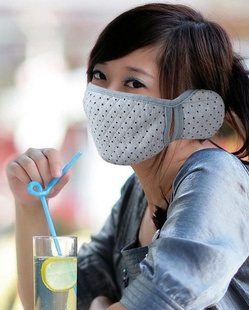face_mask: (84, 33, 172, 163)
